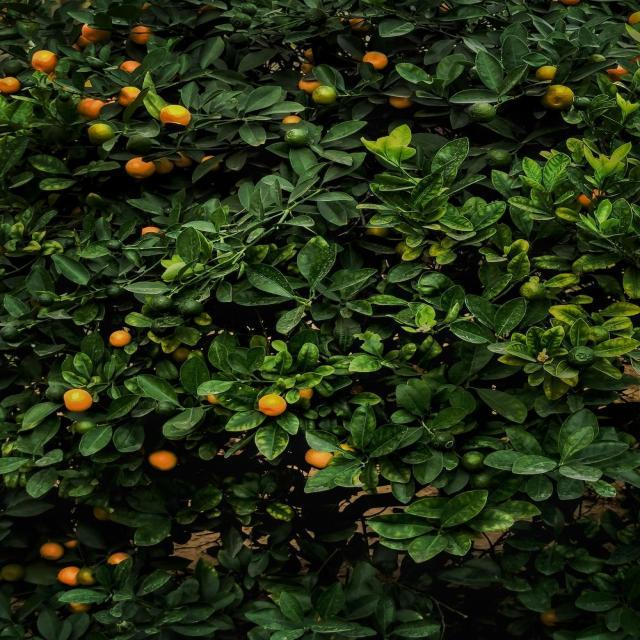Jeruk Belum Matang: (543, 84, 575, 109), (568, 346, 594, 367), (520, 282, 546, 300), (488, 148, 510, 169), (469, 104, 494, 122), (178, 299, 203, 317), (460, 452, 486, 469), (312, 86, 336, 104), (429, 432, 454, 449), (89, 125, 113, 141), (285, 130, 308, 146), (2, 564, 22, 582), (154, 400, 176, 415), (78, 568, 96, 586), (0, 326, 20, 342), (74, 418, 96, 432), (151, 296, 172, 310), (538, 67, 556, 80), (5, 60, 22, 73), (364, 228, 386, 238), (104, 240, 122, 252), (37, 294, 54, 306), (106, 284, 122, 296)
Jeruk Sudah Matang: (157, 105, 192, 124), (62, 390, 92, 412), (125, 158, 155, 179), (149, 450, 177, 472), (259, 394, 287, 416), (77, 98, 106, 119), (29, 52, 57, 72), (362, 50, 390, 70), (306, 450, 336, 468), (82, 22, 110, 41), (602, 60, 632, 77), (38, 542, 64, 560), (58, 566, 83, 584), (120, 85, 140, 106), (155, 156, 177, 174), (130, 26, 153, 42), (110, 330, 130, 348), (118, 60, 142, 74), (298, 78, 322, 92), (580, 188, 602, 203), (351, 18, 374, 32), (0, 77, 20, 93), (108, 552, 131, 564), (388, 96, 413, 107), (140, 226, 163, 236), (296, 389, 314, 399), (282, 115, 302, 124), (628, 10, 640, 25)
